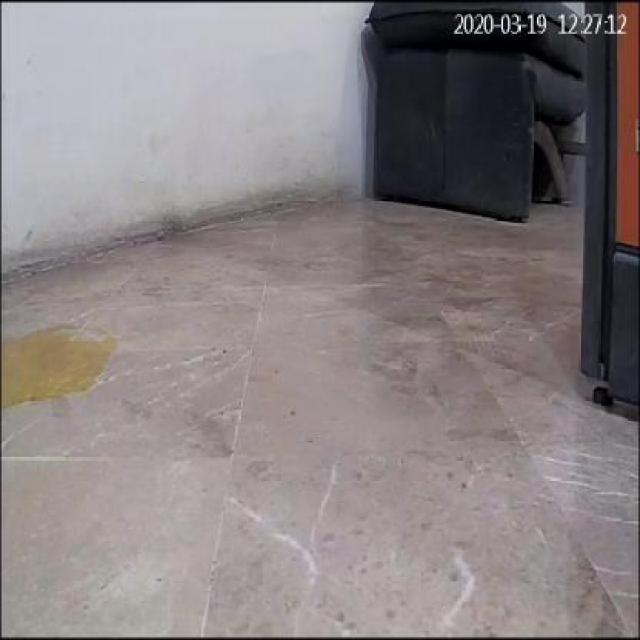spill: (2, 330, 118, 408)
